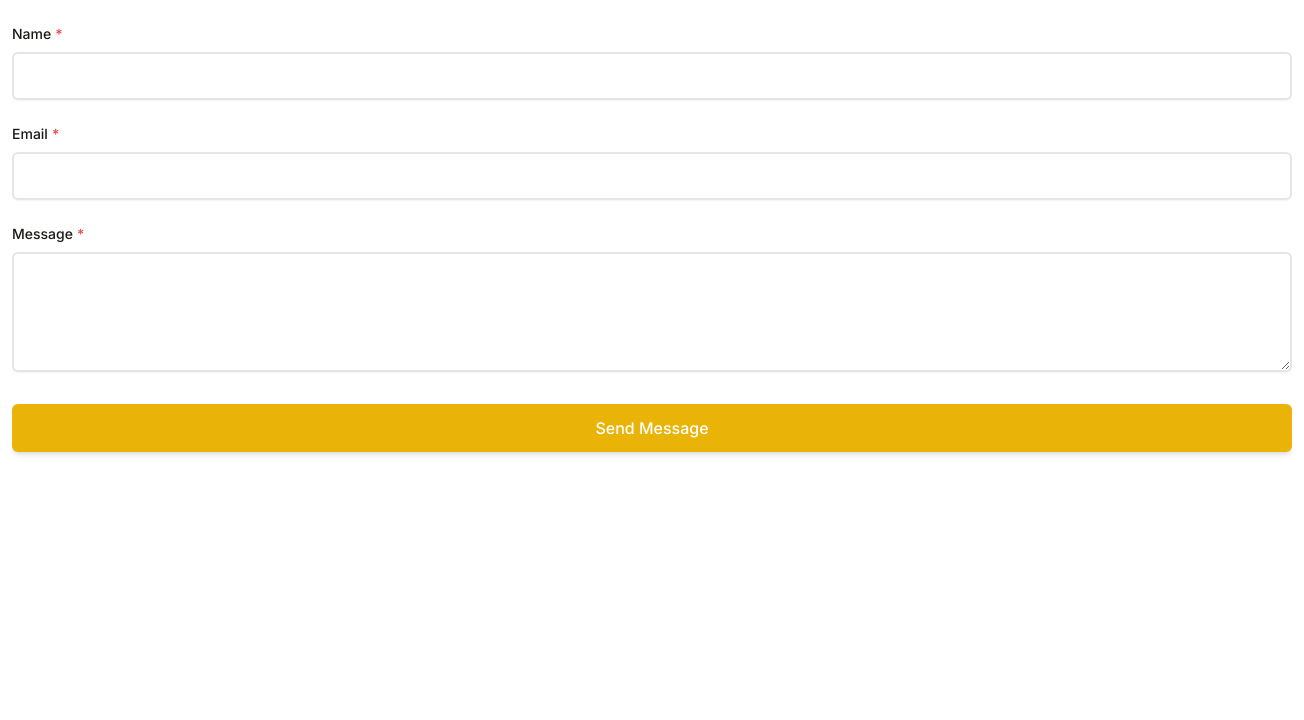
Scenario: ContactForm › displays error message on submission failure
Fill and submit form
Type "John Doe" into the field labelled "Name*".
click(652, 76); type("John Doe")  # box [12,52,1292,100]
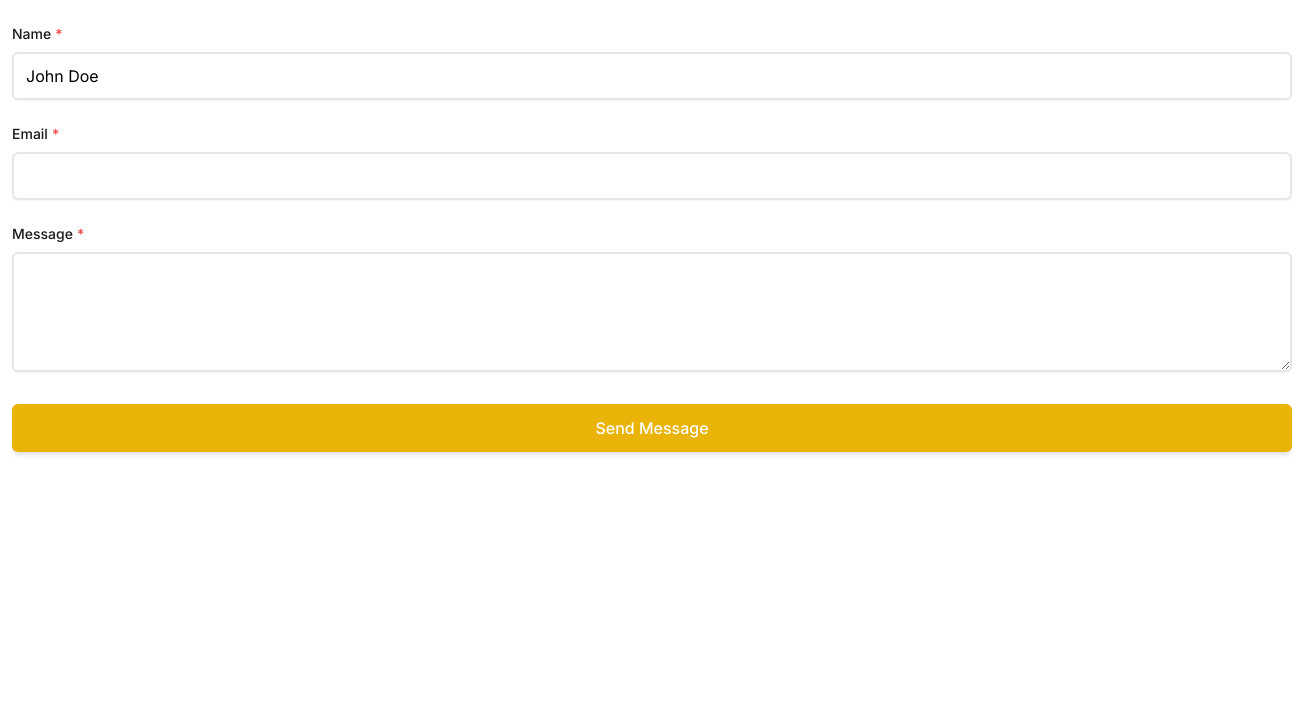
Type "john@example.com" into the field labelled "Email*".
click(652, 176); type("john@example.com")  # box [12,152,1292,200]
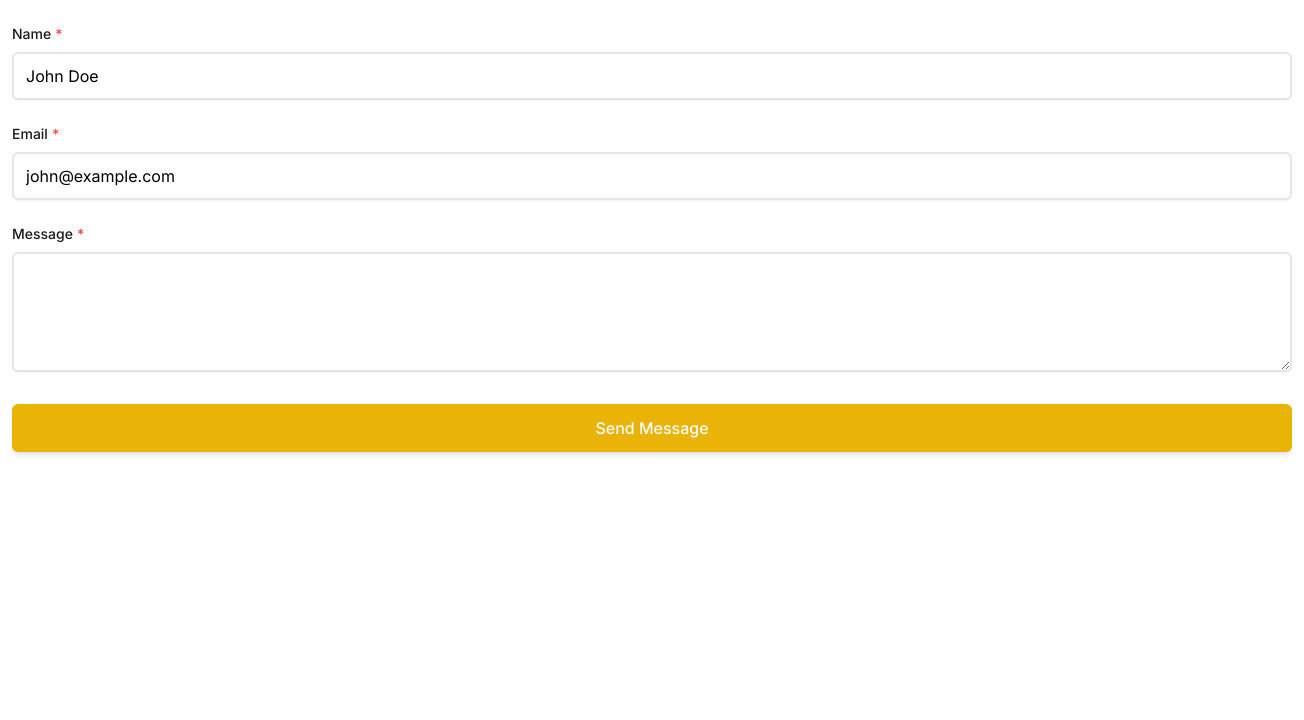
Type "Test message" into the text box labelled "Message*".
click(652, 312); type("Test message")  # box [12,252,1292,372]
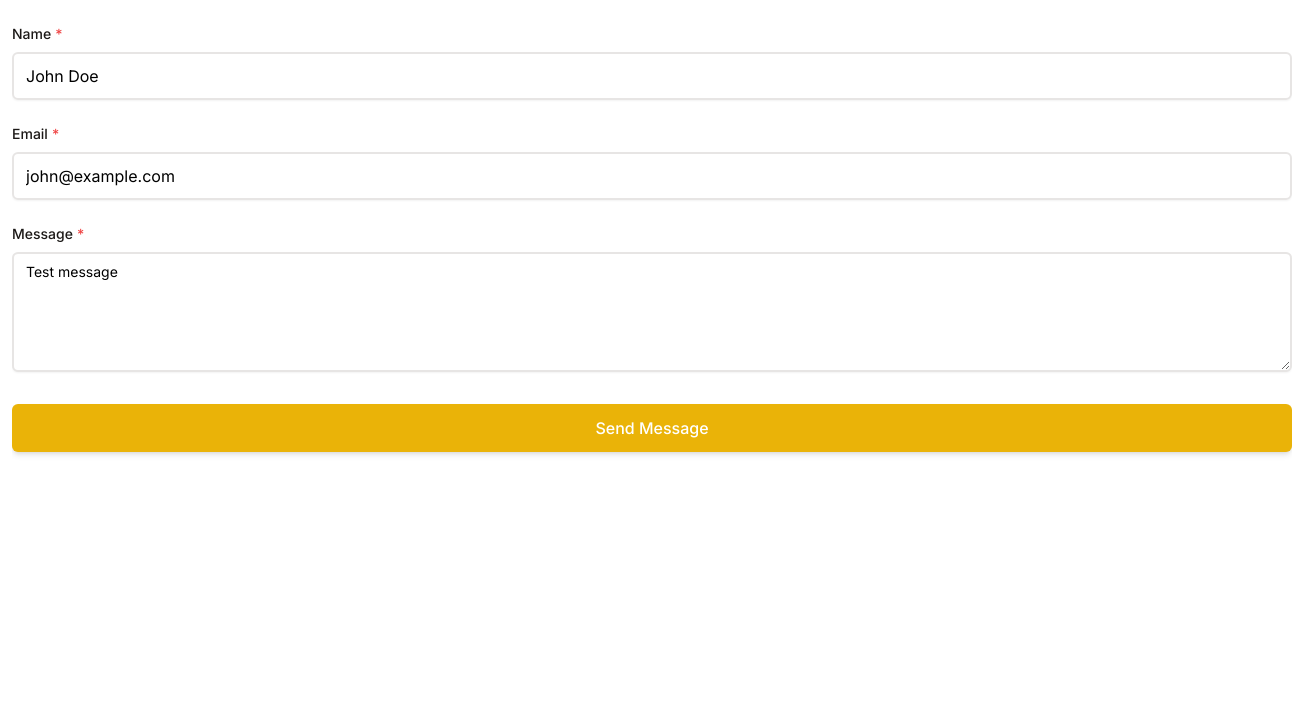
Click the button "Send Message".
click(652, 428)  # box [12,404,1292,452]
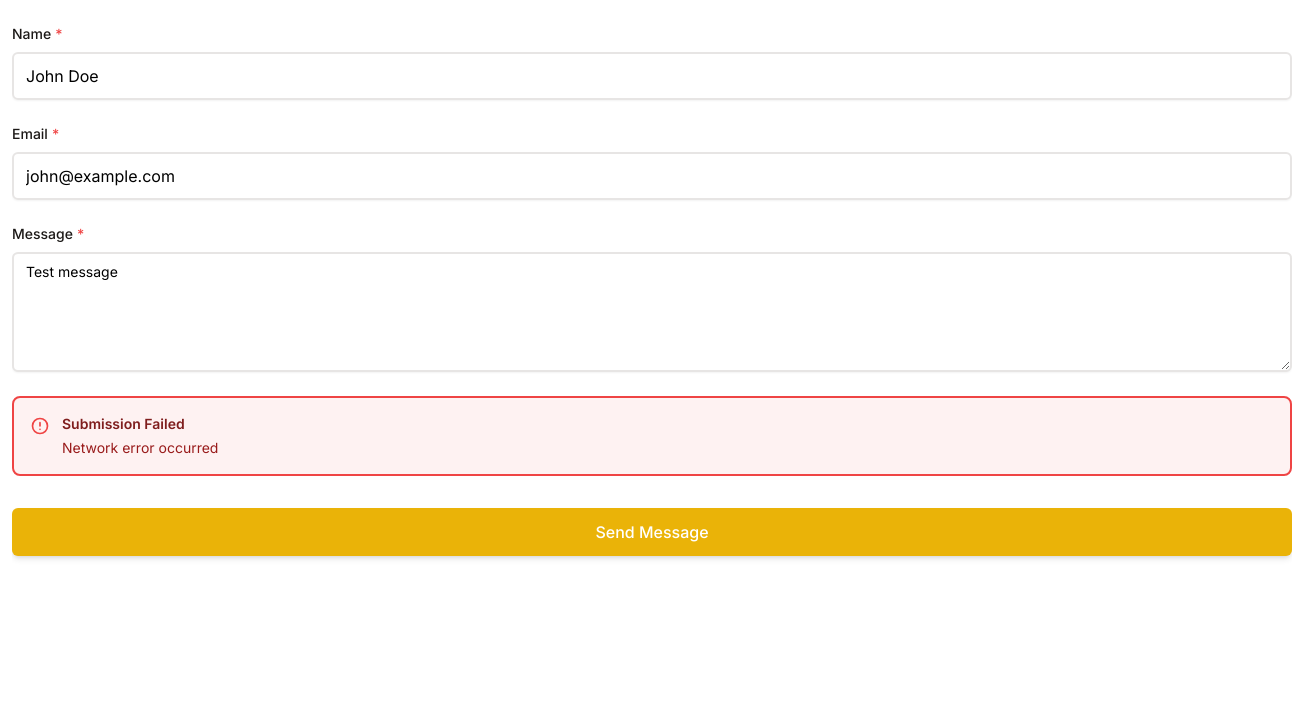
Result: the heading "Submission Failed" is shown at [62,415,185,432]
Result: the text "Network error occurred" is shown at [62,438,218,458]
